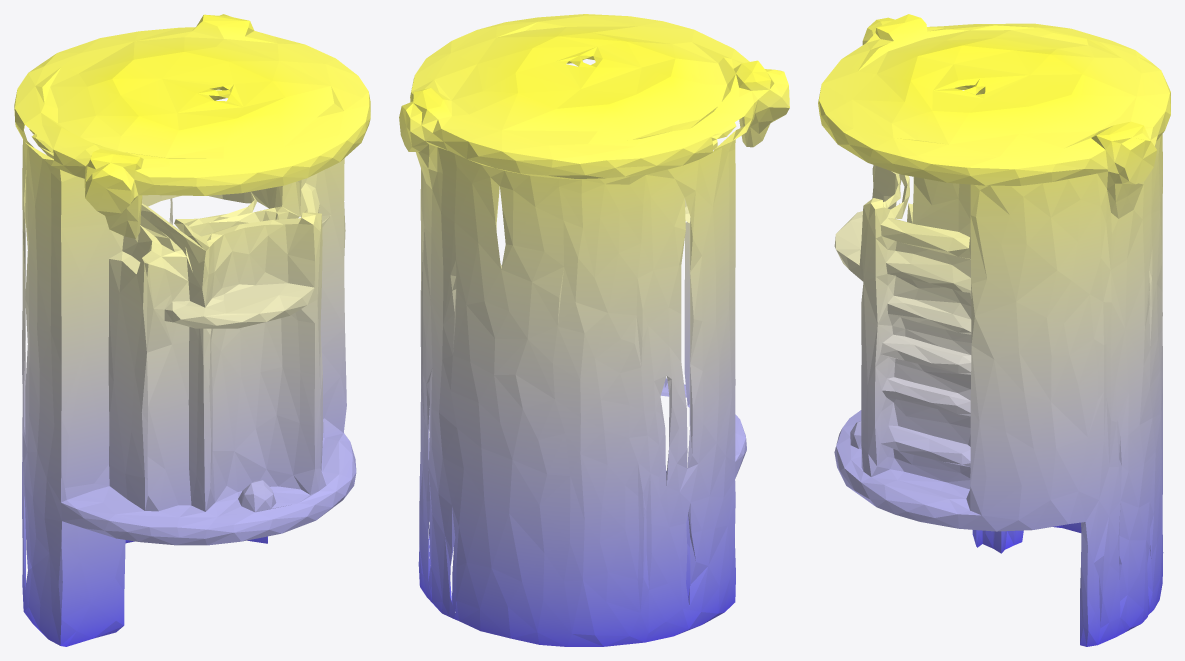
File: 104_cyb_laser_gradient_fish_scales_2949_2026_10_03_334606.glb
3 views of the same model, side by side, from view 1: azimuth 30°, elevation 25°; view 2: azimuth 150°, elevation 25°; view 3: azimuth 270°, elevation 25° (orthographic). The views are drawn at different scales.
Parts seen in each view (by area): view 1: geometry_0; view 2: geometry_0; view 3: geometry_0.
Boxes of the visible parts, x1,y1,x2,y2 form: geometry_0: (14,14,370,646); geometry_0: (399,14,789,646); geometry_0: (818,14,1170,646).
Size of the model in its own units: 0.632 by 1 by 0.6295.
